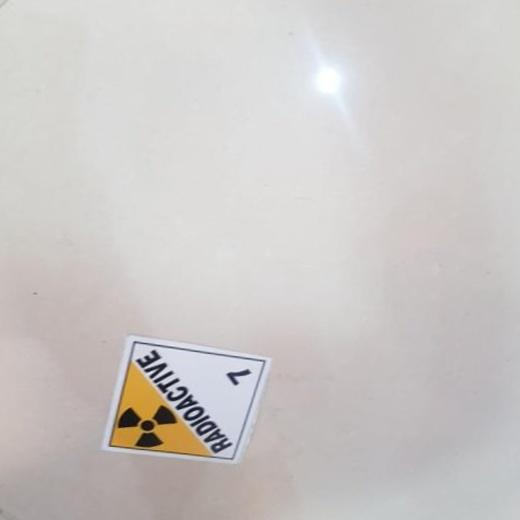radioactive: (106, 336, 276, 472)
